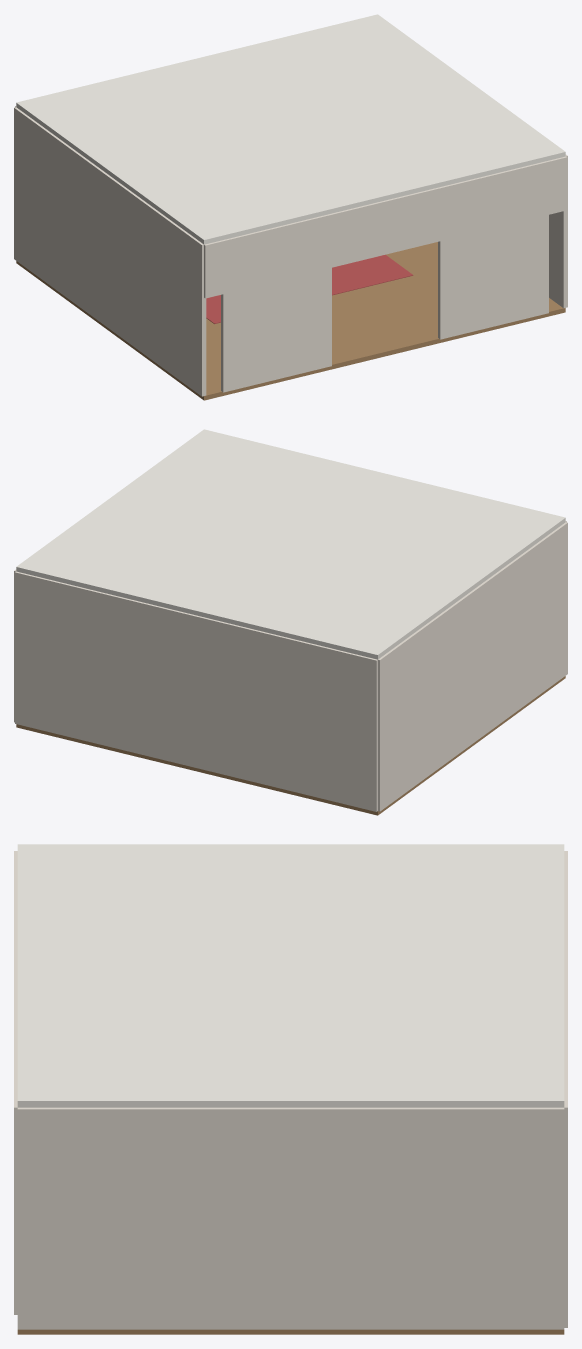
Rendered from library1.glb.
3 views of the same model, one above another, from view 1: azimuth 30°, elevation 25°; view 2: azimuth 150°, elevation 25°; view 3: azimuth 270°, elevation 25° (orthographic). The views are drawn at different scales.
Visible parts, largest first — view 1: ceiling, wall_L, wall_F_L, wall_F_top, wall_F_R, floor, rug, wall_R; view 2: ceiling, wall_bk, wall_L, floor; view 3: ceiling, wall_R, floor, wall_bk, wall_F_R, wall_F_top.
Boxes of the visible parts, x1,y1,x2,y2 form: ceiling: (16,14,565,244); wall_L: (14,107,206,396); wall_F_L: (221,214,331,392); wall_F_top: (204,156,566,298); wall_F_R: (438,163,548,339); floor: (16,242,565,400); rug: (206,254,413,323); wall_R: (549,154,567,308); ceiling: (16,429,565,659); wall_bk: (15,571,377,811); wall_L: (378,522,567,811); floor: (16,676,565,815); ceiling: (17,844,564,1107); wall_R: (17,1107,564,1329); floor: (17,1329,564,1334); wall_bk: (564,851,567,1327); wall_F_R: (14,1018,17,1314); wall_F_top: (14,851,17,1184).
Bounding box in the file's own units: 10.12 × 4.24 × 9.12.
